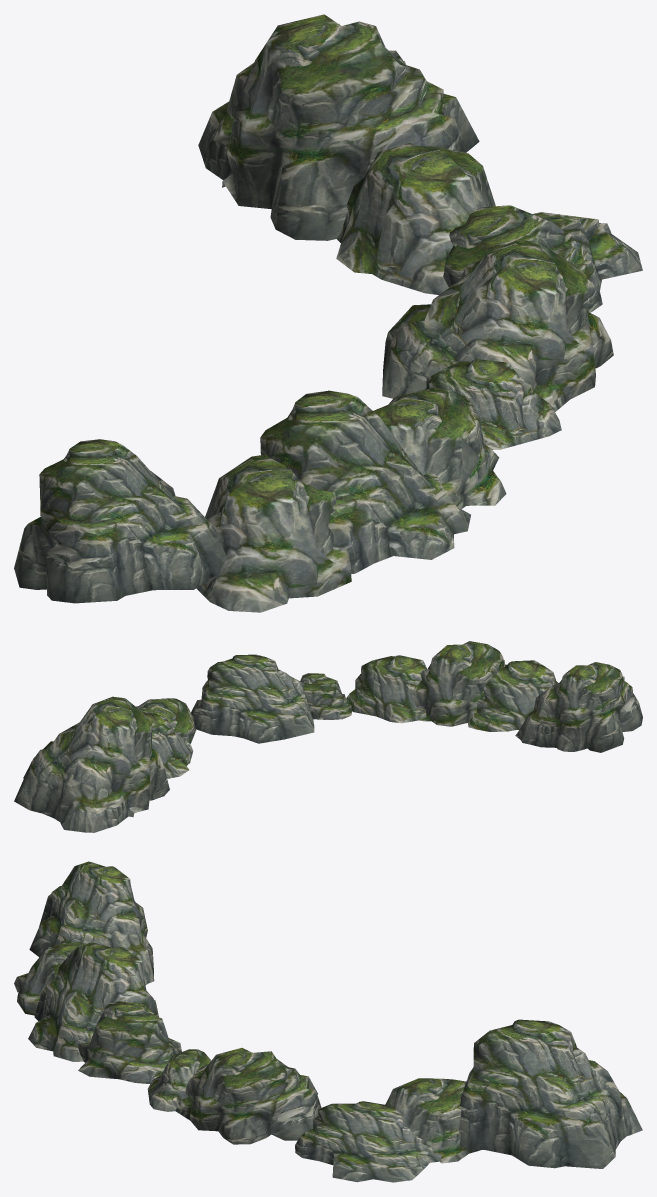
File: cj_luoyang_shanshi01_56_06_6272out.fbx
3 renders of one model, top to bottom at view 1: azimuth 30°, elevation 25°; view 2: azimuth 150°, elevation 25°; view 3: azimuth 270°, elevation 25°, orthographic. The views are drawn at different scales.
Parts seen in each view (by area): view 1: cj_luoyang_shanshi01; view 2: cj_luoyang_shanshi01; view 3: cj_luoyang_shanshi01.
Boxes of the visible parts, x1=… form: cj_luoyang_shanshi01: x1=14, y1=14, x2=642, y2=612; cj_luoyang_shanshi01: x1=14, y1=641, x2=642, y2=832; cj_luoyang_shanshi01: x1=14, y1=861, x2=642, y2=1182.
Size of the model in its own units: 30.22 by 5.89 by 32.14.
